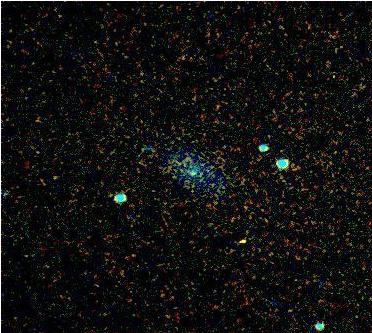star: (229, 228, 259, 258)
